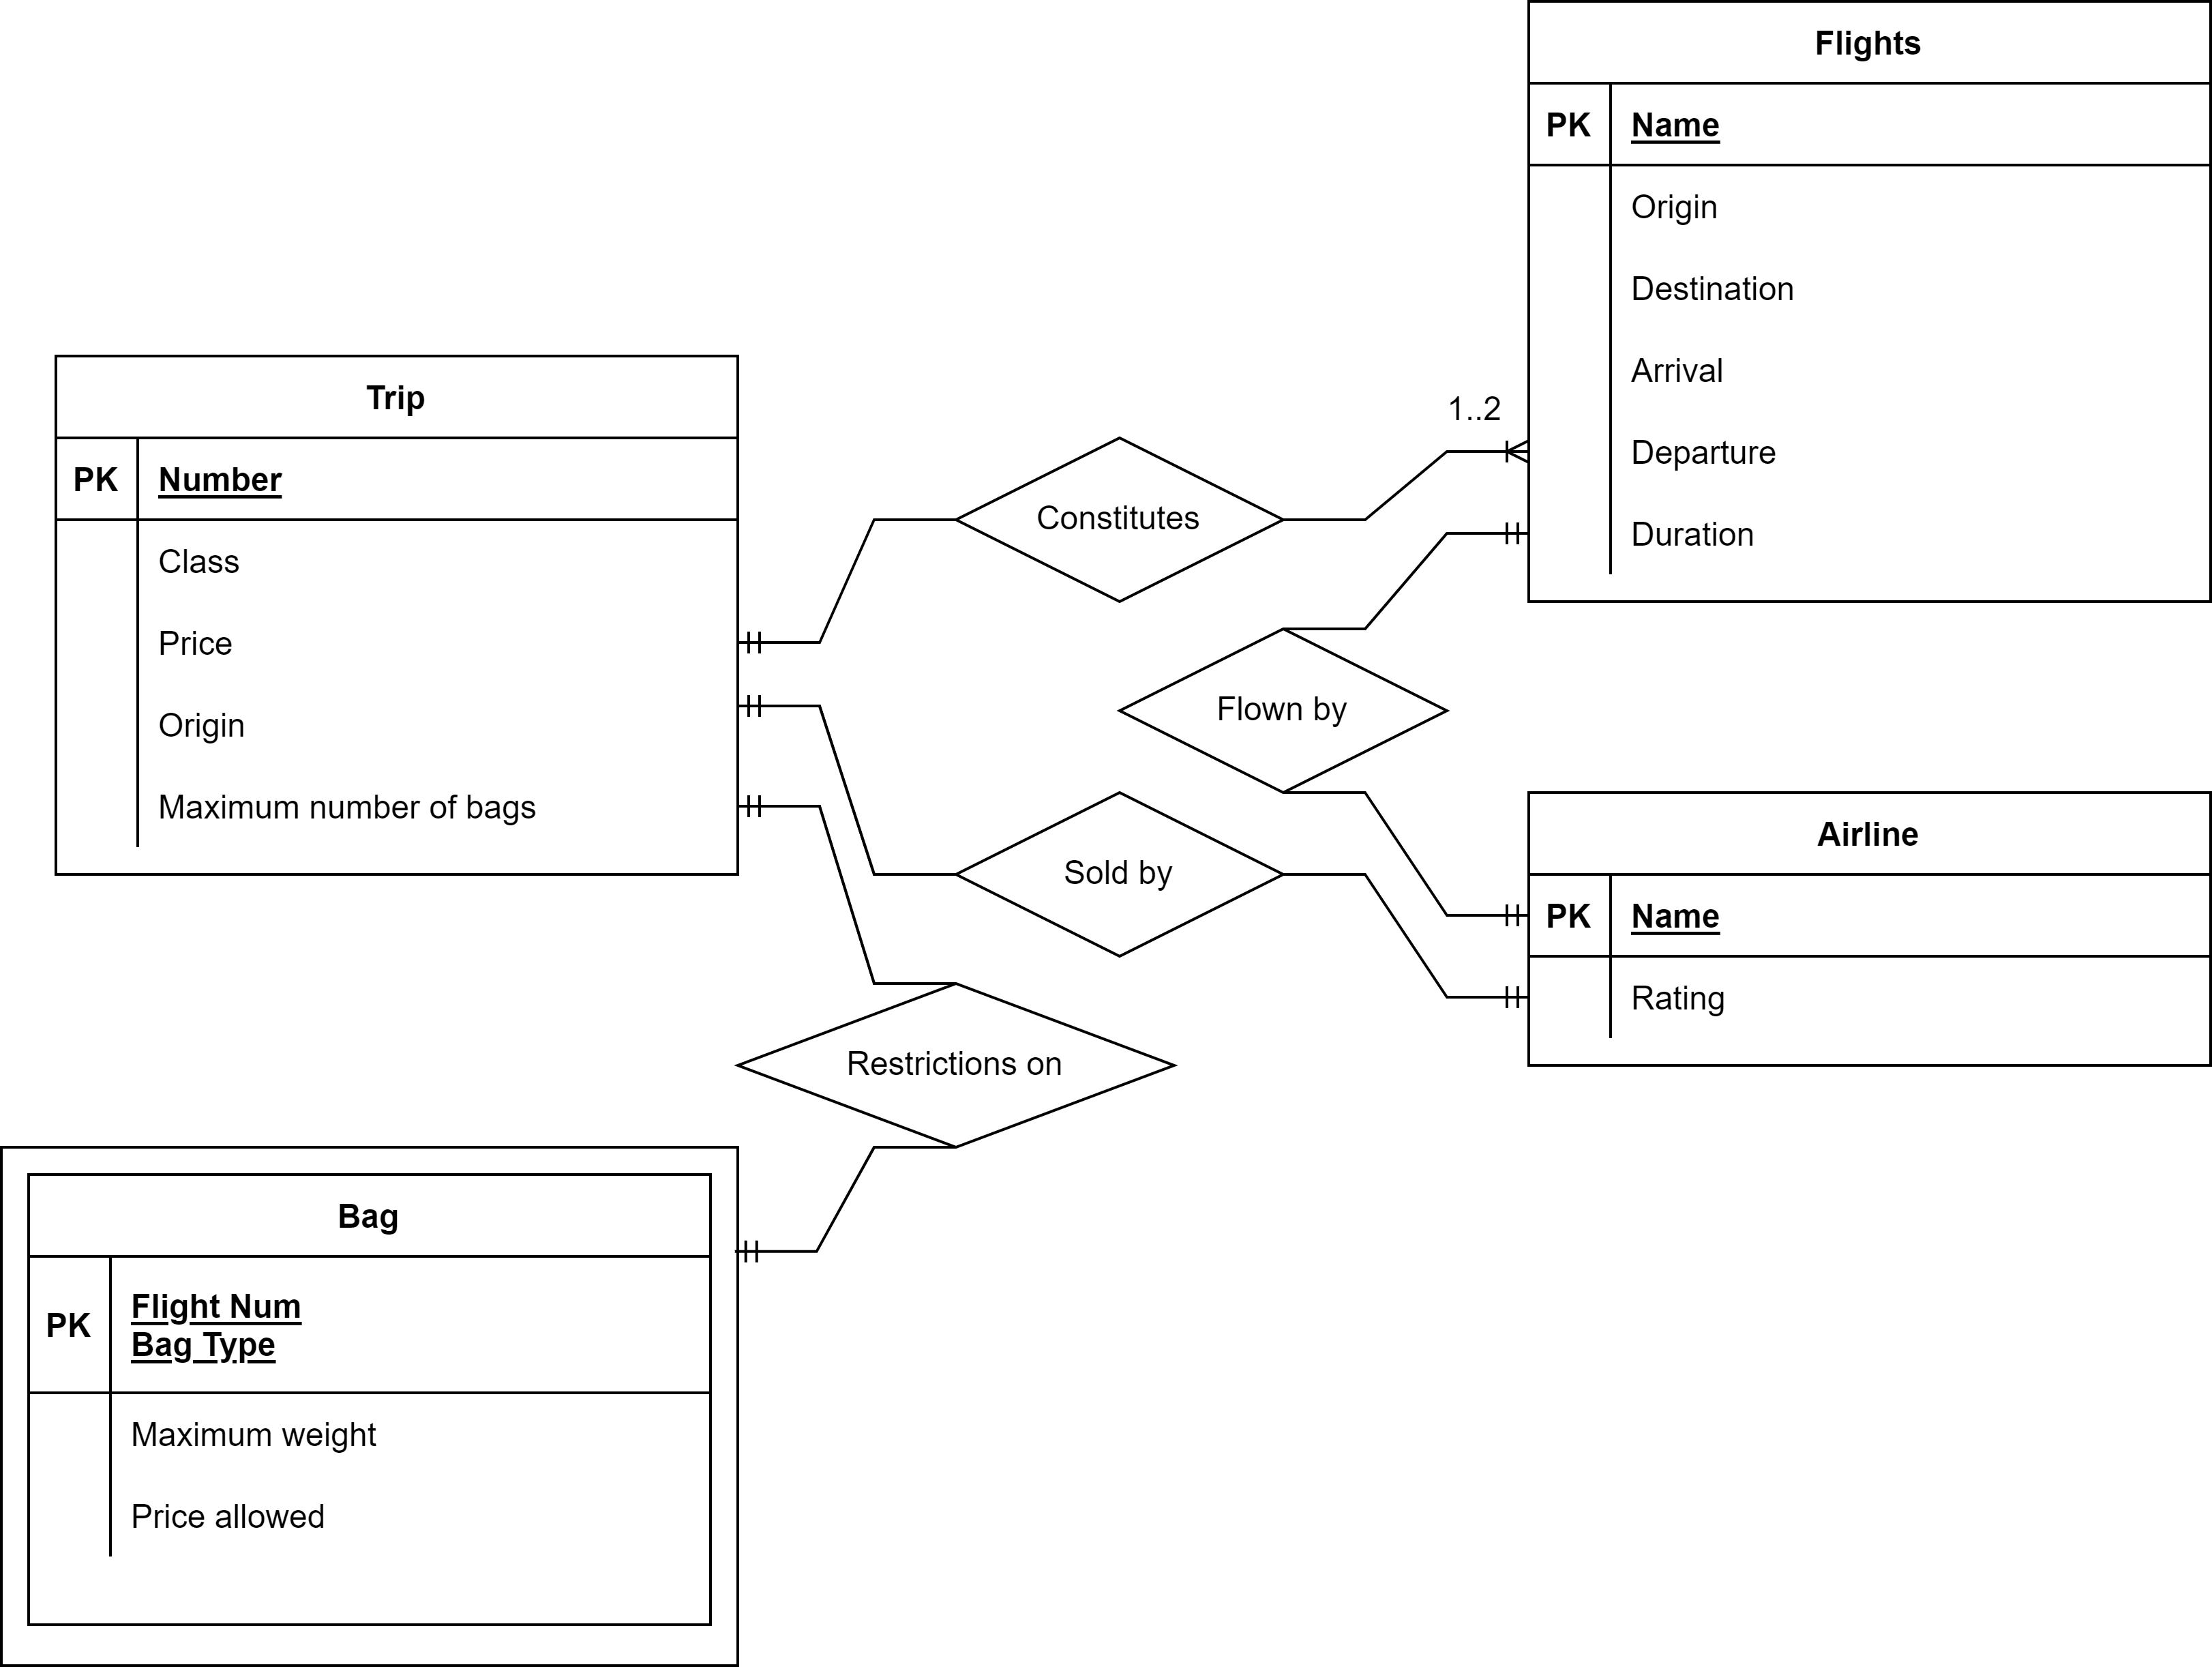entity: (1524, 0, 2212, 606), (47, 350, 742, 883), (1528, 788, 2212, 1065)
relationship: (738, 986, 1178, 1149), (955, 791, 1281, 958), (961, 438, 1281, 606), (1118, 629, 1445, 790)
weakrelationship: (0, 1138, 742, 1667)
